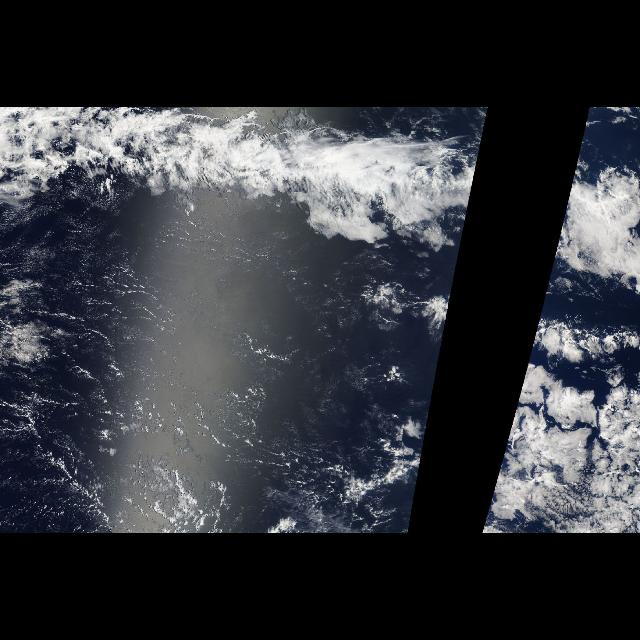Sugar: (1, 217, 345, 511)
